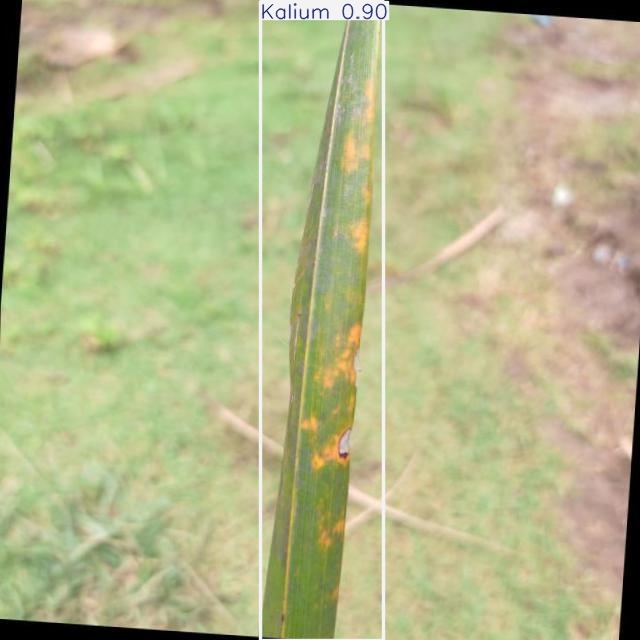Kalium: (261, 2, 383, 640)
